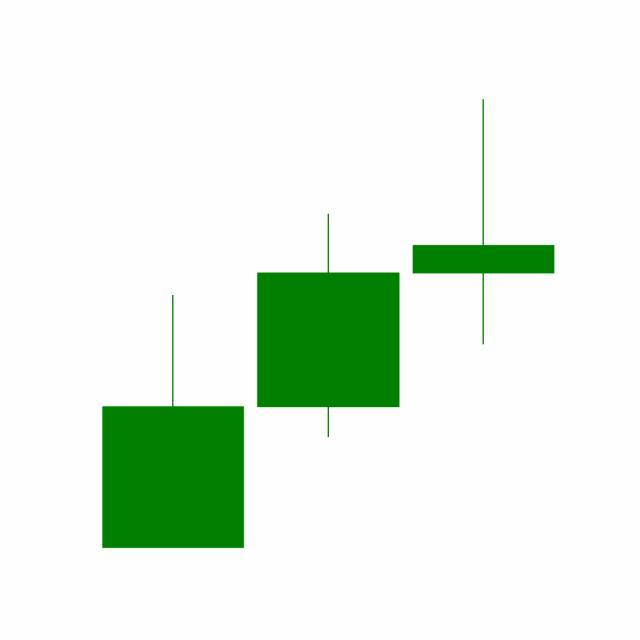Spinning Top: (406, 96, 562, 348)
